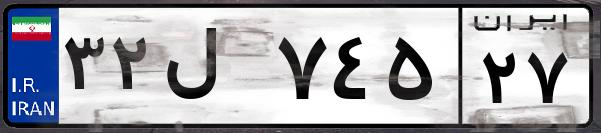2: (475, 38, 525, 113), (110, 28, 158, 98)
3: (57, 26, 110, 100)
4: (330, 28, 385, 110)
5: (385, 28, 445, 110)
7: (270, 28, 330, 110), (525, 38, 570, 115)
ل: (158, 20, 270, 120)
